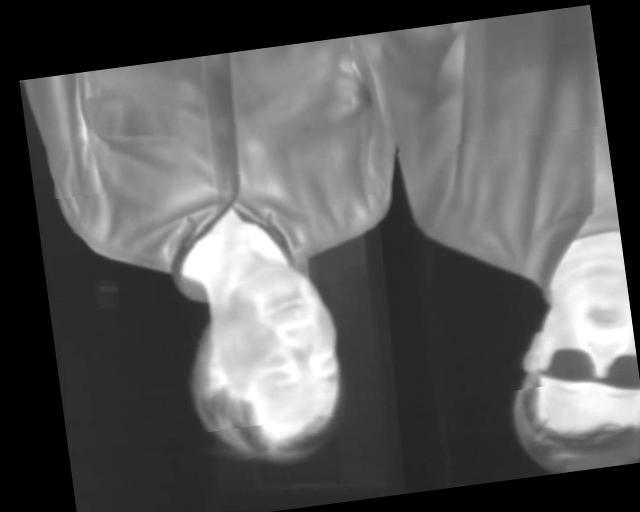face: (178, 262, 353, 477), (496, 264, 640, 477)
